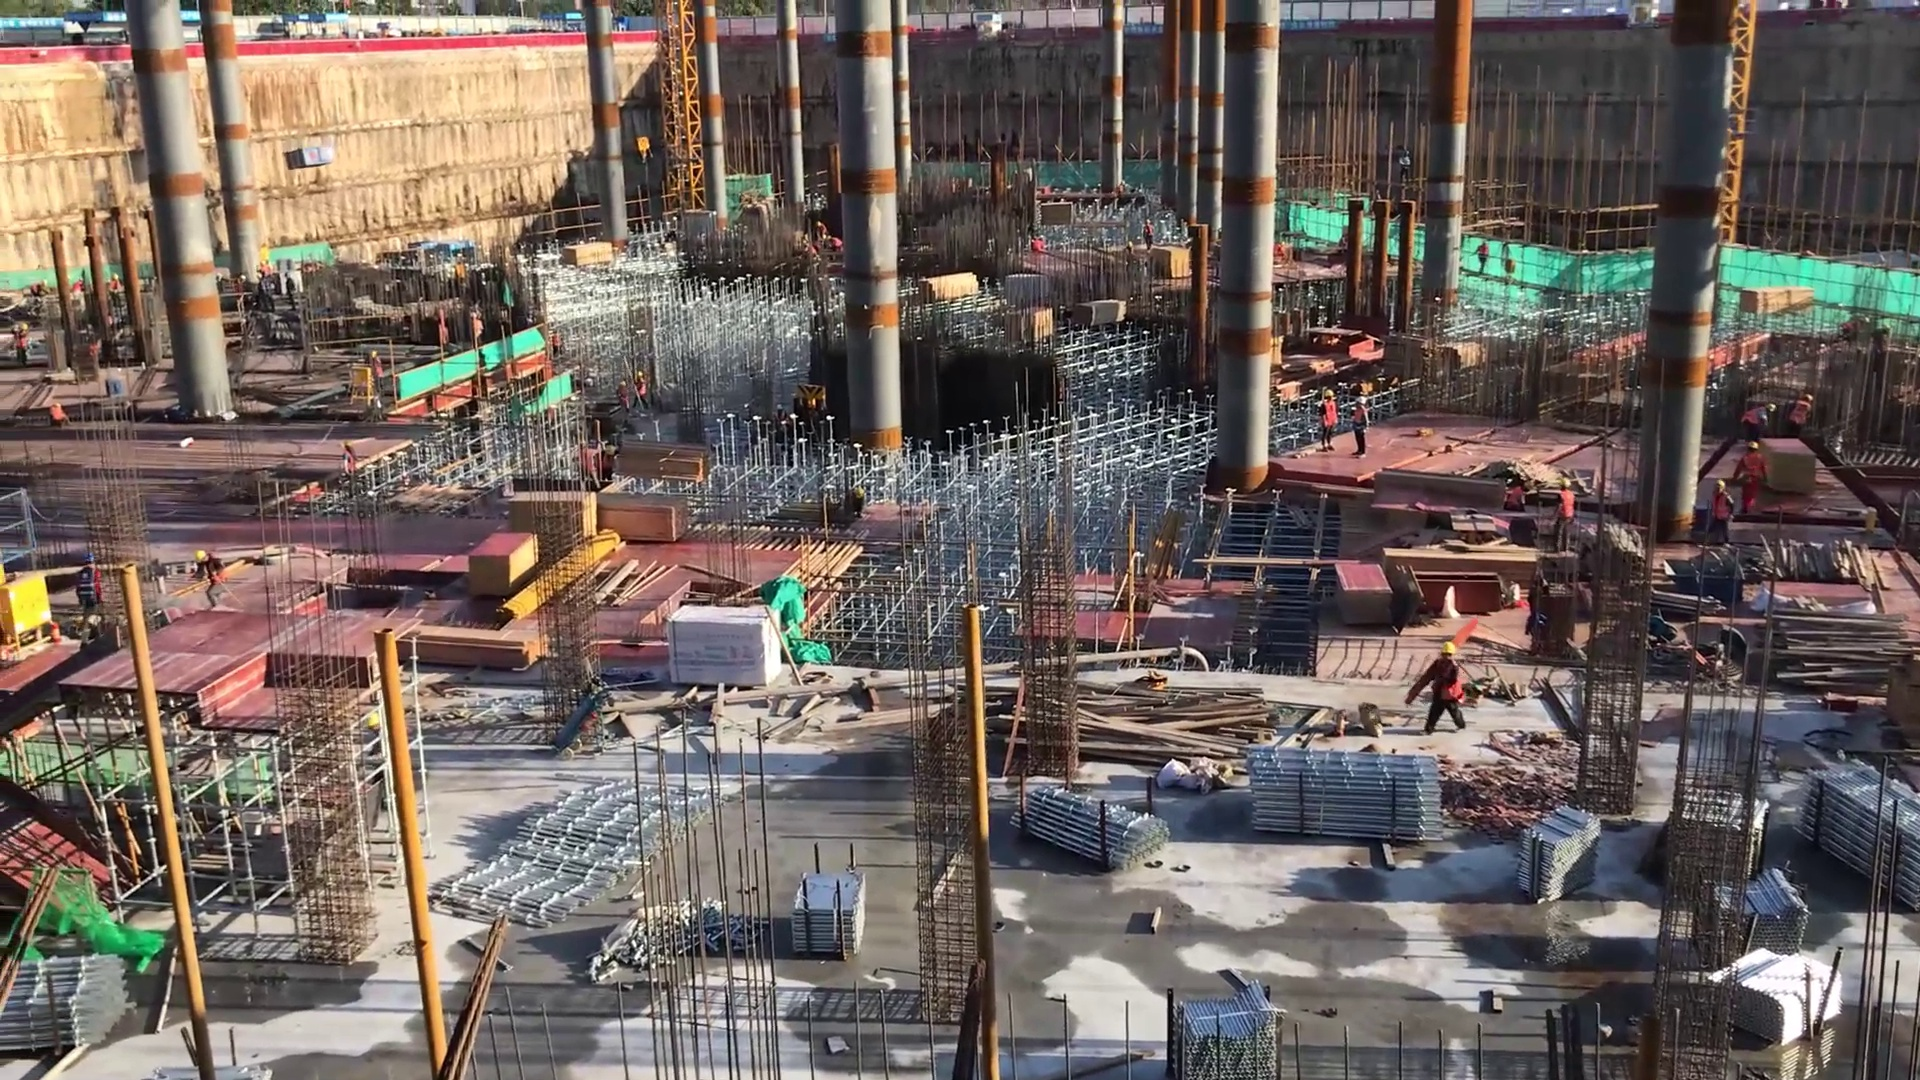board: (509, 491, 596, 545), (469, 529, 537, 596), (1336, 559, 1394, 625), (1154, 244, 1193, 278)
ebox: (1, 566, 56, 663), (348, 362, 374, 404)
helmet: (1438, 638, 1460, 662), (192, 546, 215, 567), (1743, 439, 1763, 454), (1560, 476, 1573, 494), (1324, 389, 1337, 405), (15, 322, 31, 334), (1714, 477, 1724, 499), (1522, 477, 1532, 494), (1355, 398, 1367, 413), (1803, 395, 1816, 404)
hook: (1677, 553, 1743, 606), (788, 377, 833, 417), (637, 131, 661, 170)
hopper: (282, 140, 334, 174)
person: (1407, 639, 1473, 748), (189, 545, 234, 616), (1734, 439, 1767, 527), (1554, 477, 1575, 561), (1708, 480, 1733, 550), (1317, 390, 1343, 457), (73, 559, 98, 624), (1349, 398, 1374, 462), (338, 443, 361, 505), (1741, 400, 1772, 440), (1506, 478, 1532, 523), (367, 347, 389, 399), (465, 306, 486, 358), (1473, 234, 1495, 280), (1395, 144, 1417, 190), (11, 321, 32, 369), (1791, 393, 1809, 444), (282, 268, 300, 314), (1140, 219, 1158, 262), (631, 368, 649, 408), (824, 235, 847, 261), (1027, 229, 1048, 256), (813, 216, 825, 246)
scaffold: (1226, 749, 1461, 855), (1801, 759, 1920, 924), (1, 941, 152, 1065), (1019, 778, 1177, 878), (1687, 866, 1816, 963), (1511, 806, 1611, 916), (1168, 990, 1287, 1080)
slogan: (1281, 15, 1338, 32), (1125, 21, 1163, 35)
vest: (1431, 659, 1465, 702), (1740, 451, 1767, 486), (77, 569, 96, 606), (1321, 400, 1342, 435), (1710, 491, 1733, 523), (1557, 490, 1577, 527), (1743, 402, 1767, 433), (1351, 407, 1371, 439), (339, 451, 360, 479), (1508, 485, 1526, 511)
wood: (1080, 683, 1270, 766), (1772, 605, 1916, 701), (387, 621, 542, 672), (1384, 547, 1538, 585), (596, 489, 691, 545), (620, 440, 711, 480), (1888, 647, 1920, 754), (1738, 284, 1819, 319), (917, 268, 977, 308), (560, 236, 618, 273), (1072, 297, 1127, 332)
